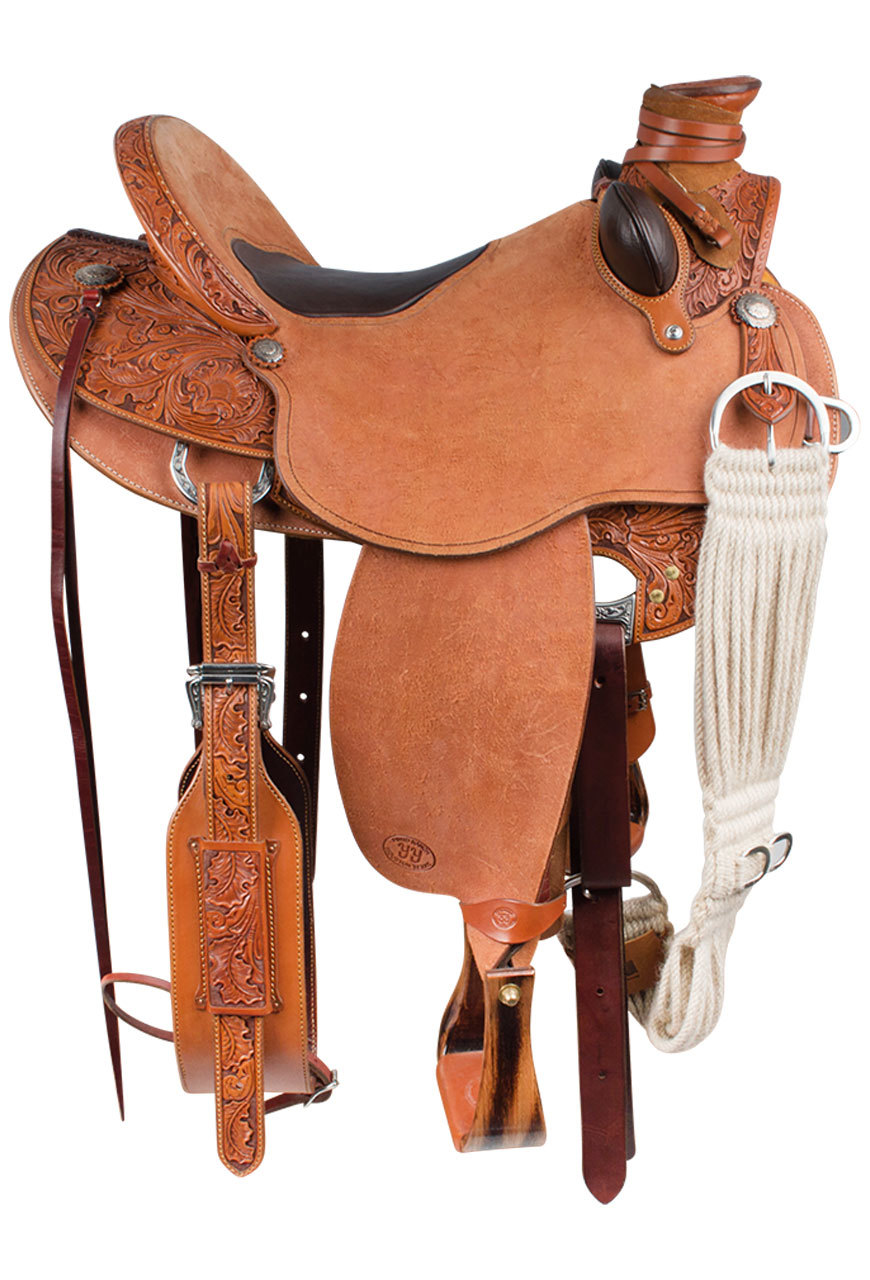saddle: (30, 56, 838, 1092)
